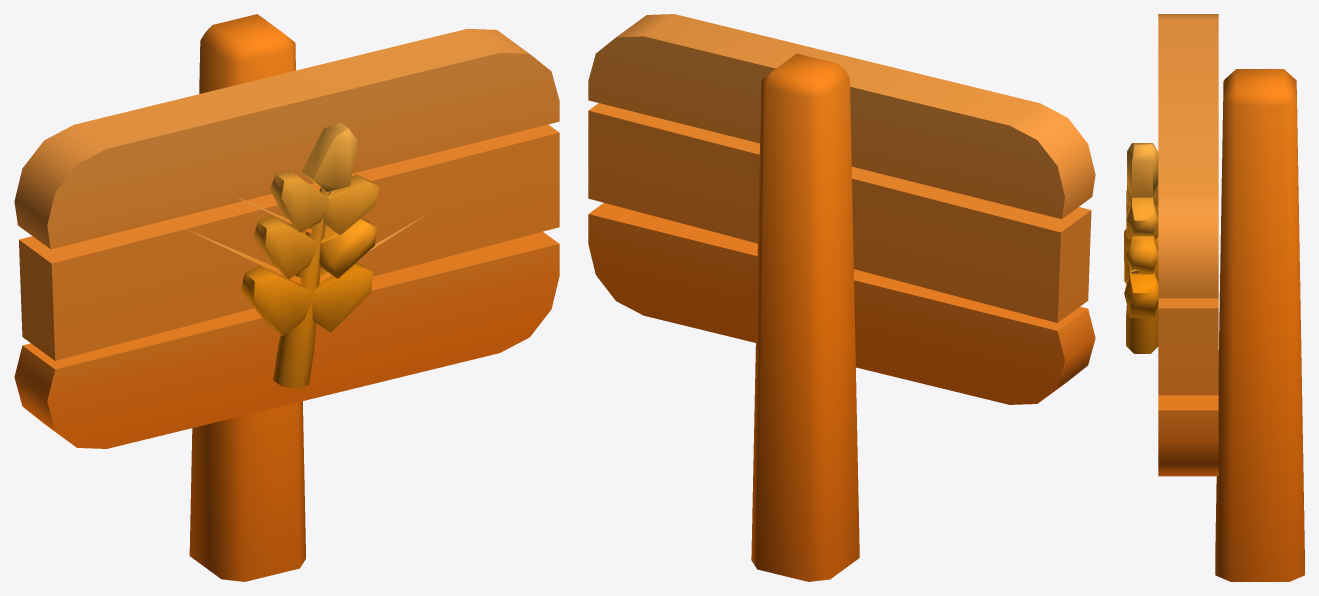
Rendered from Farm_Crop_Sign_Wheat_01.fbx.
3 views of the same model, side by side, from view 1: azimuth 30°, elevation 25°; view 2: azimuth 150°, elevation 25°; view 3: azimuth 270°, elevation 25° (orthographic). The views are drawn at different scales.
Visible parts, largest first — view 1: Farm_Crop_Sign_Wheat_01; view 2: Farm_Crop_Sign_Wheat_01; view 3: Farm_Crop_Sign_Wheat_01.
Boxes of the visible parts, x1,y1,x2,y2 form: Farm_Crop_Sign_Wheat_01: [14, 14, 559, 581]; Farm_Crop_Sign_Wheat_01: [588, 14, 1095, 581]; Farm_Crop_Sign_Wheat_01: [1124, 14, 1304, 581].
Size of the model in its own units: 90.11 by 88.8 by 30.05.
